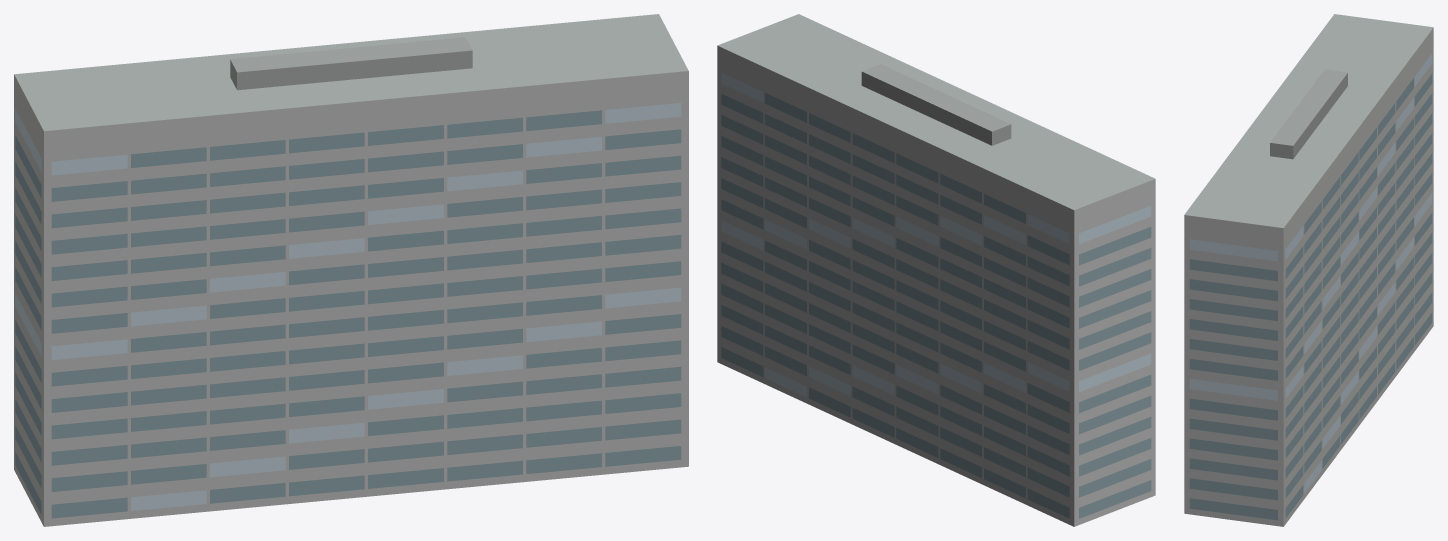
The model's file is fallback-olympic-park-foreon-418.glb.
The picture shows the model from 3 angles, left to right: view 1: azimuth 30°, elevation 25°; view 2: azimuth 150°, elevation 25°; view 3: azimuth 270°, elevation 25°; orthographic projection. The views are drawn at different scales.
Parts seen in each view (by area): view 1: fallback-olympic-park-foreon-418; view 2: fallback-olympic-park-foreon-418; view 3: fallback-olympic-park-foreon-418.
Part boxes in pixels (x1,y1,x2,y2): fallback-olympic-park-foreon-418: [14, 14, 688, 526]; fallback-olympic-park-foreon-418: [717, 14, 1155, 526]; fallback-olympic-park-foreon-418: [1184, 14, 1433, 526].
Size of the model in its own units: 70.35 by 47.81 by 34.64.
